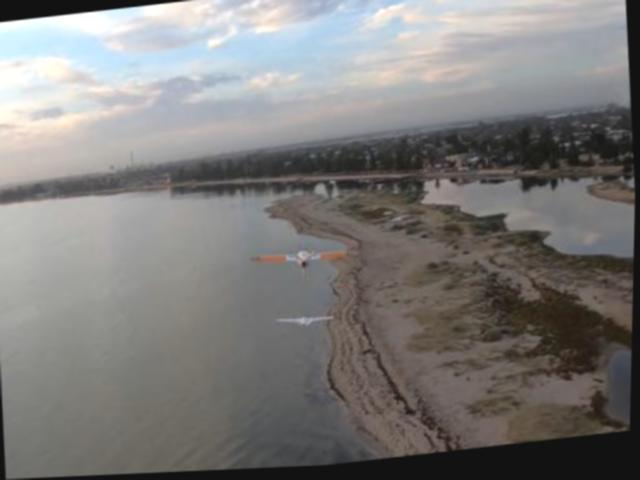uav: (250, 241, 361, 280), (274, 309, 342, 336)
